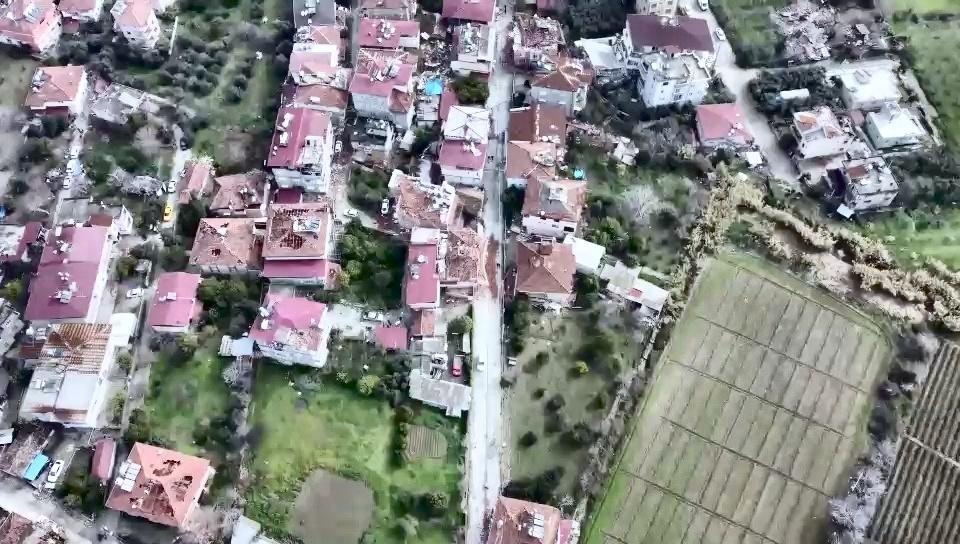kapali: (474, 222, 502, 315)
